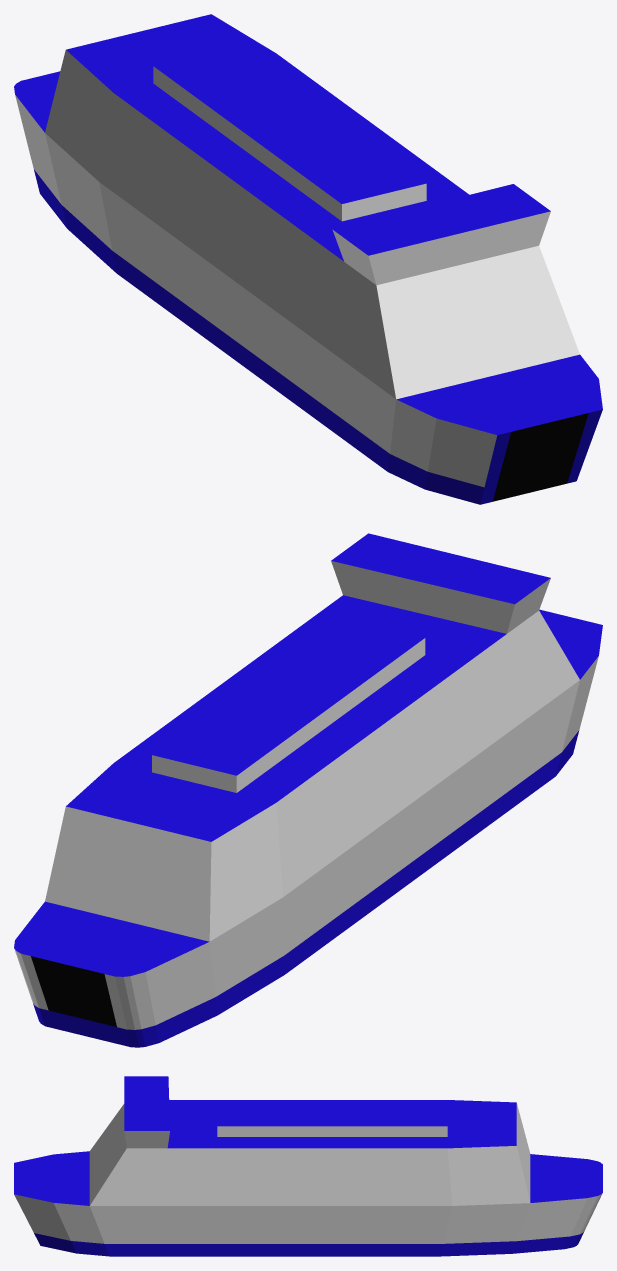
The model's file is ferry.glb.
3 renders of one model, top to bottom at view 1: azimuth 30°, elevation 25°; view 2: azimuth 150°, elevation 25°; view 3: azimuth 270°, elevation 25°, orthographic. The views are drawn at different scales.
Visible parts, largest first — view 1: shipbase; view 2: shipbase; view 3: shipbase.
Part boxes in pixels (<box>): shipbase: <box>14,14,602,504</box>; shipbase: <box>14,533,602,1047</box>; shipbase: <box>14,1076,602,1256</box>.
Bounding box in the file's own units: 17.98 × 19.56 × 81.69.
